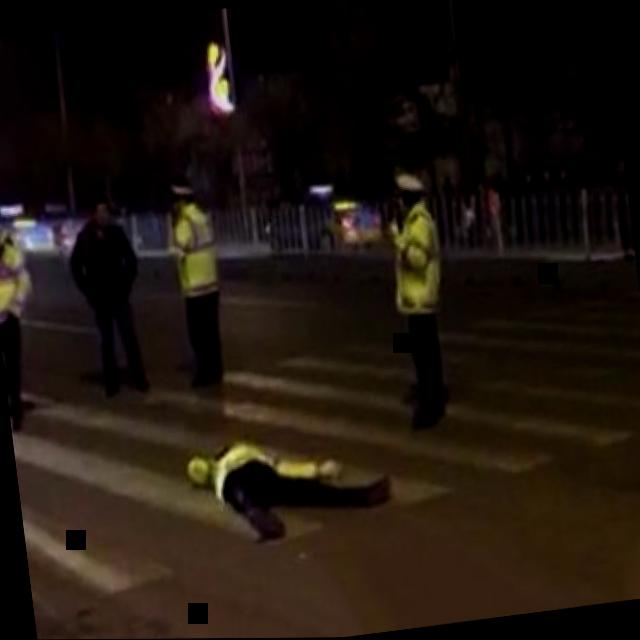Fall-Detected: (163, 390, 403, 563)
